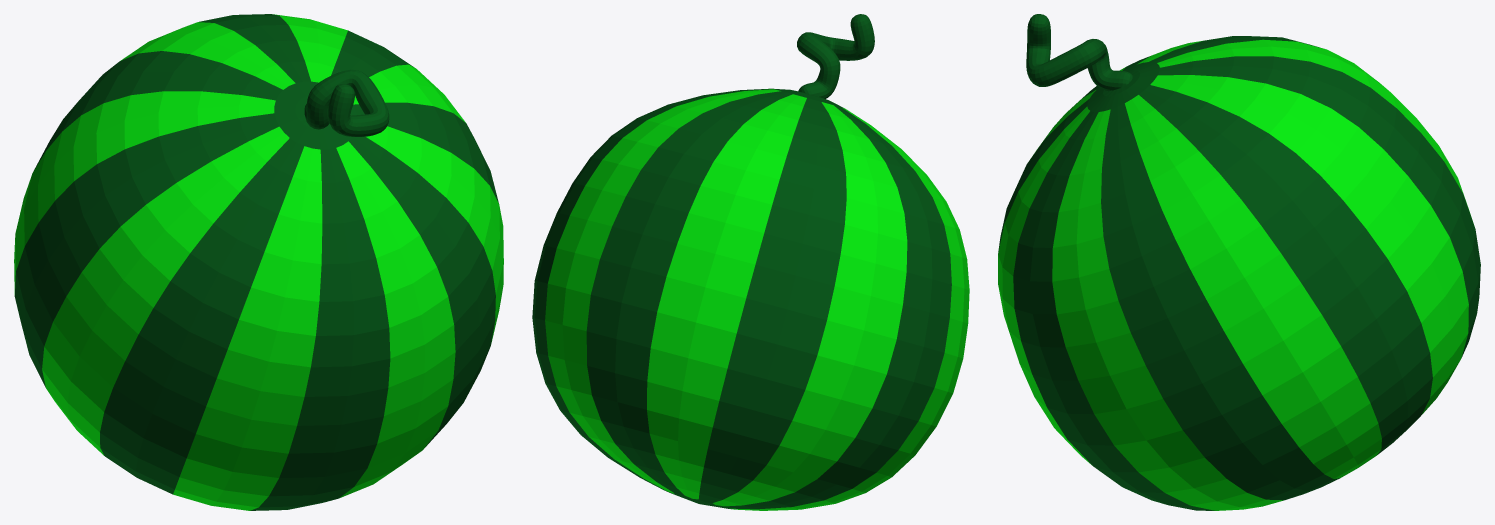
Rendered from watermelon_0.fbx.
3 views of the same model, side by side, from view 1: azimuth 30°, elevation 25°; view 2: azimuth 150°, elevation 25°; view 3: azimuth 270°, elevation 25° (orthographic). The views are drawn at different scales.
Parts seen in each view (by area): view 1: watermelon_0; view 2: watermelon_0; view 3: watermelon_0.
Part boxes in pixels (x1,y1,x2,y2): watermelon_0: (14, 14, 503, 510); watermelon_0: (532, 14, 969, 510); watermelon_0: (998, 14, 1480, 510).
Size of the model in its own units: 197 by 211 by 200.
